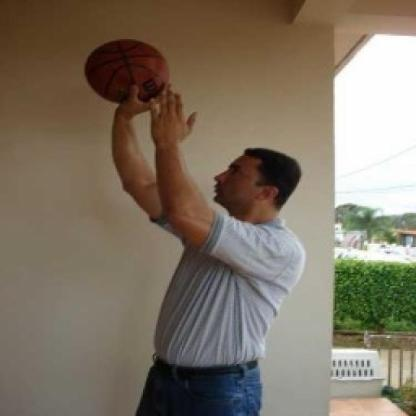basketball: (81, 36, 171, 107)
